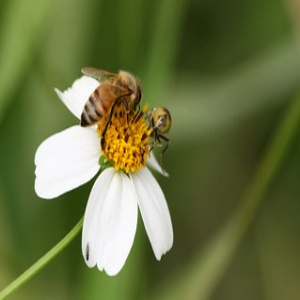bee: (79, 65, 143, 135)
